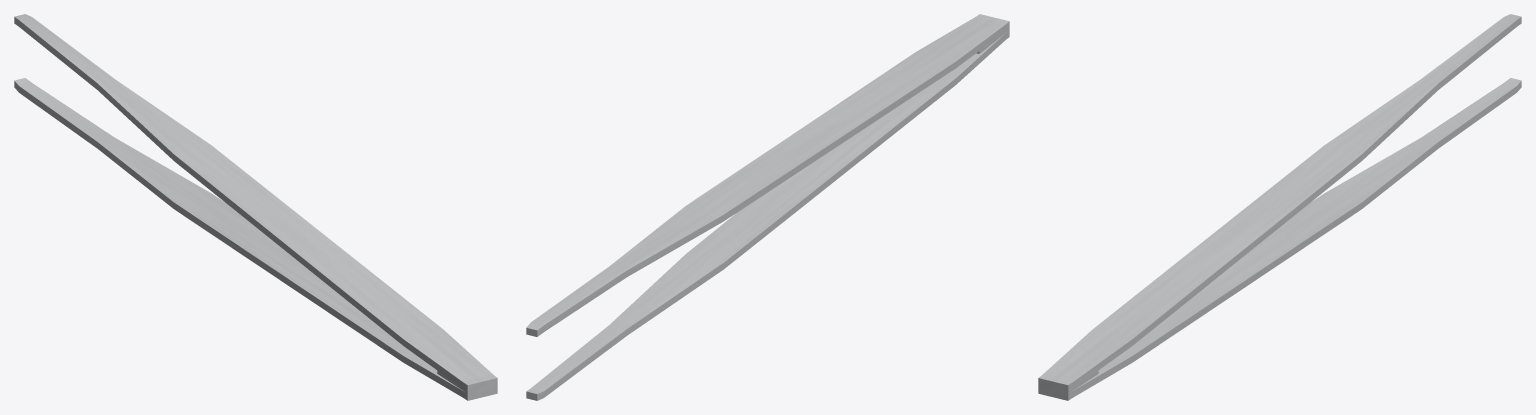
File: debakey_forceps.glb
The picture shows the model from 3 angles, left to right: view 1: azimuth 30°, elevation 25°; view 2: azimuth 150°, elevation 25°; view 3: azimuth 330°, elevation 25°; orthographic projection.
Parts seen in each view (by area): view 1: s5_debakey_forceps; view 2: s5_debakey_forceps; view 3: s5_debakey_forceps.
Boxes of the visible parts, x1,y1,x2,y2 form: s5_debakey_forceps: (14,14,497,400); s5_debakey_forceps: (526,14,1009,400); s5_debakey_forceps: (1038,14,1521,400).
Size of the model in its own units: 0.008 by 0.0139 by 0.1605.
Materials: 1 (1 with a texture image).
